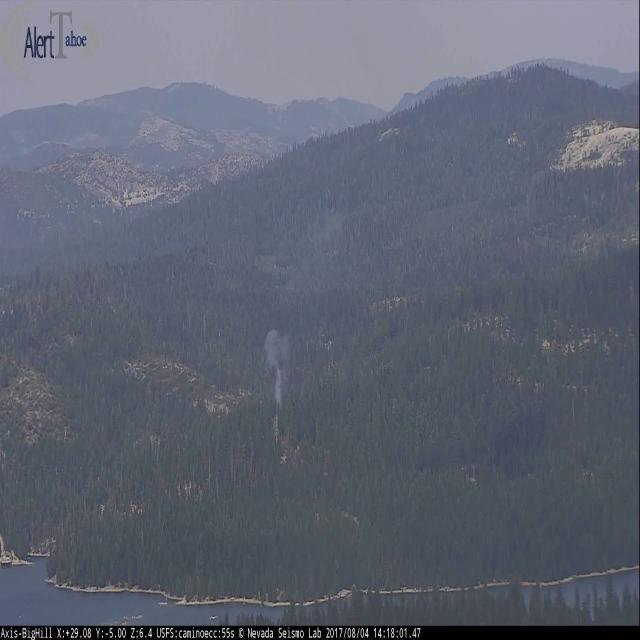smoke: (260, 325, 291, 412)
